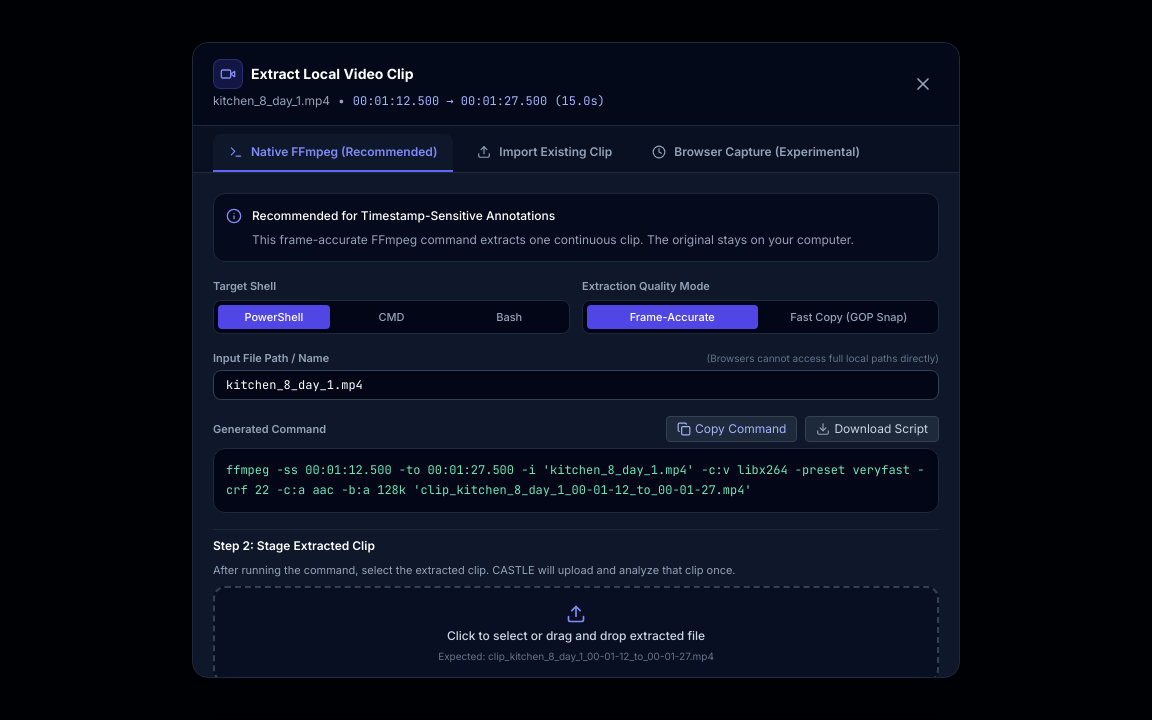
it: Task 3B & 3B.1: Extraction Reliability, Provenance, and Security Test Suite › 3. Browser Capture Warnings and Delta Oversight › displays prominent experimental notice with duration, tab visibility, and overshoot warnings
// Switch to Mode C: Browser Capture
Click the button with test id "tab-mode-c": (756, 153) [636, 134, 876, 172]
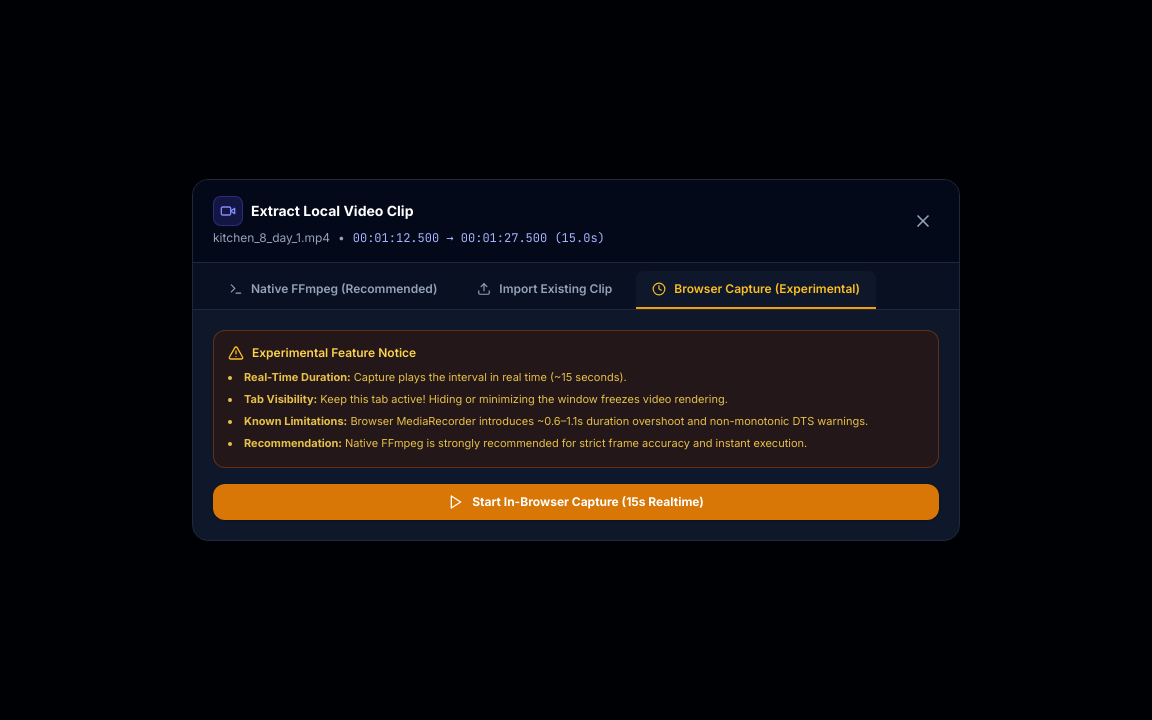
Now the element with test id "browser-capture-warning" is shown, box [213, 330, 939, 468]
Now the element with test id "browser-capture-warning" shows "Real-Time Duration", box [244, 370, 351, 384]
Now the element with test id "browser-capture-warning" shows "Tab Visibility", box [244, 392, 317, 406]
